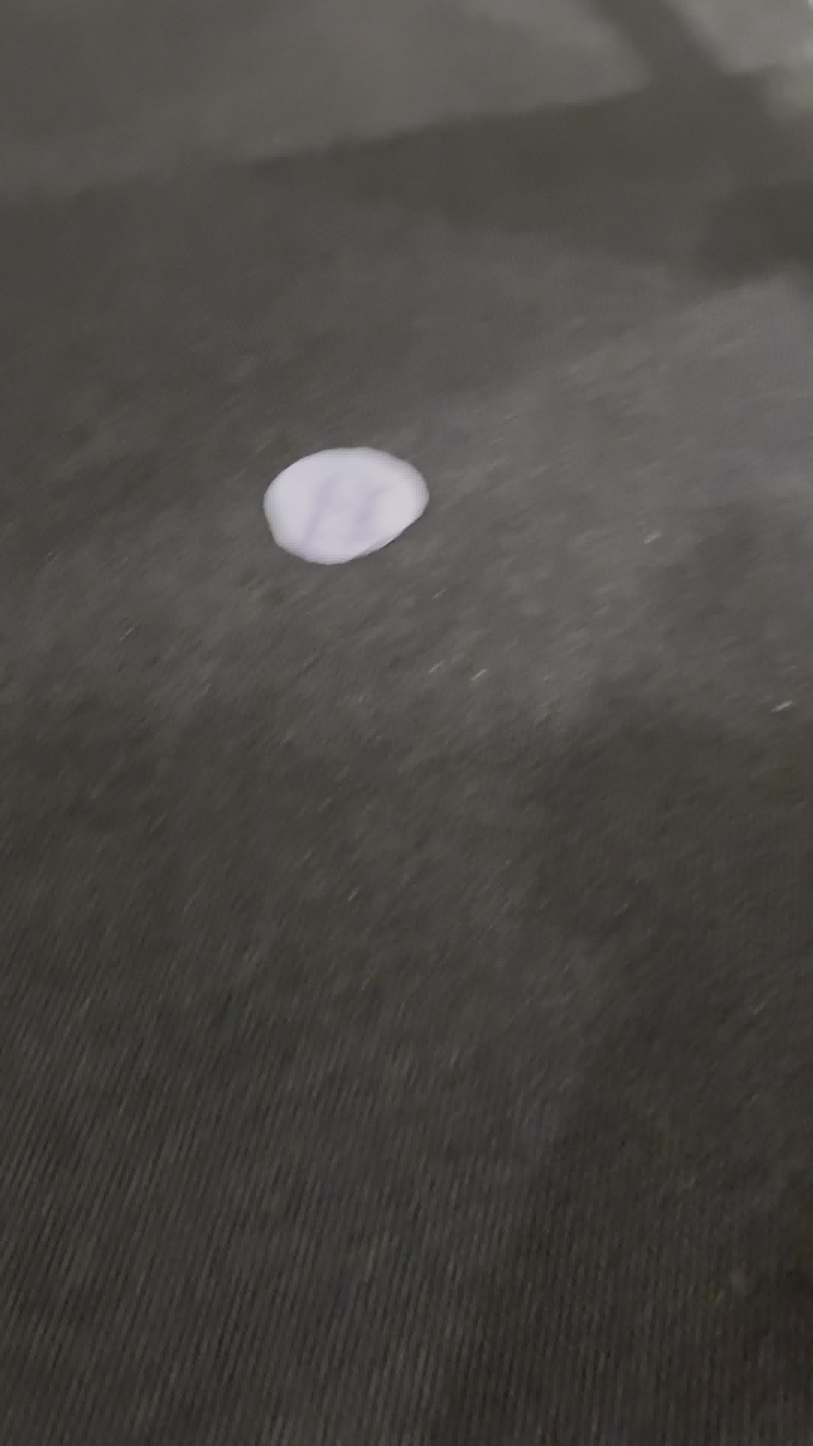Target: (263, 447, 429, 565)
